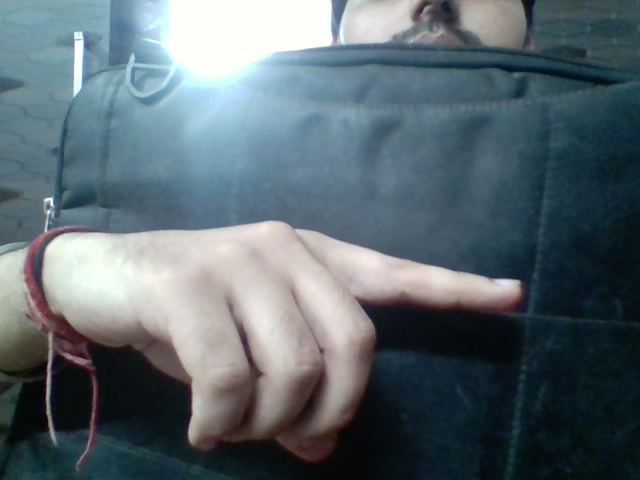p: (116, 202, 560, 460)
